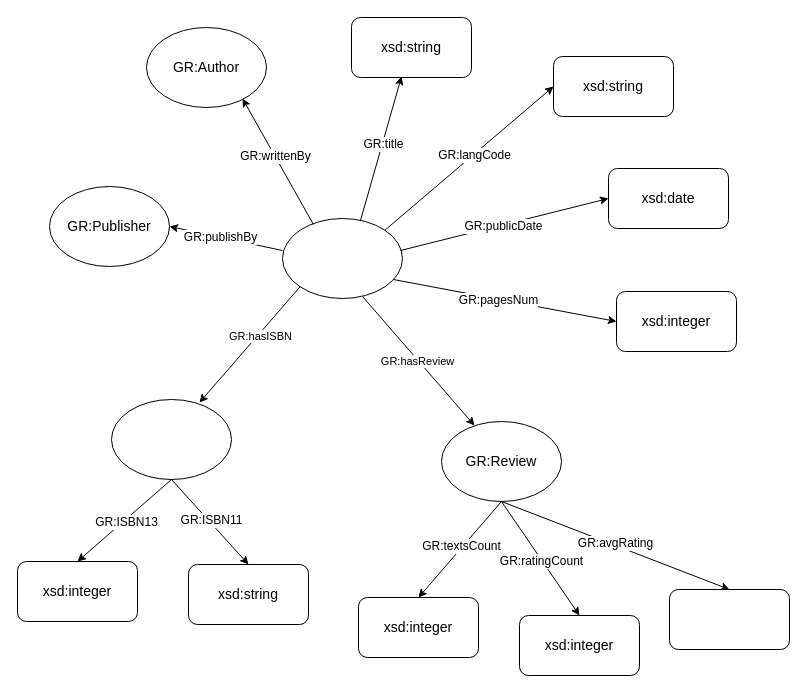
This 807x693 diagram has some shape labels left out. The shapes that lost their labels are listed below. From the top down, each one's centre as x and y in pixels, then its label:
the point at 342,258: GR:Book
the point at 171,439: GR:ISBN
the point at 729,619: xsd:decimal
